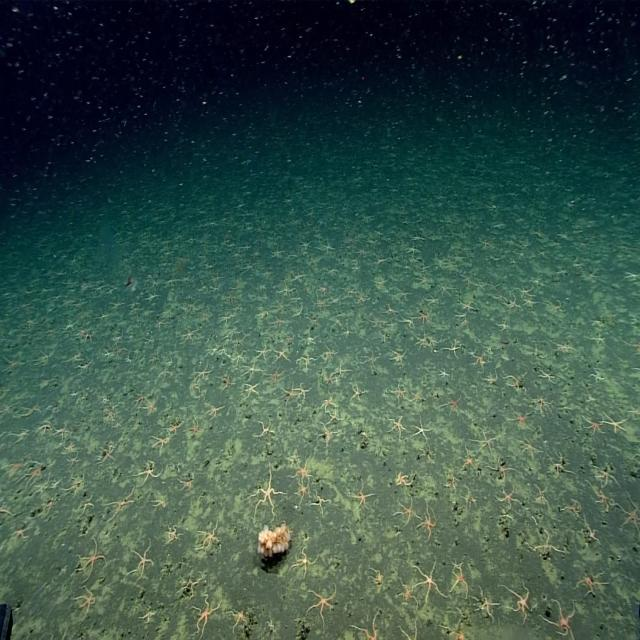brittle-stars: (252, 464, 280, 517), (544, 598, 576, 638), (191, 596, 220, 638), (307, 587, 337, 624), (414, 562, 441, 601), (78, 543, 106, 579), (507, 583, 532, 622), (108, 486, 135, 519), (131, 542, 154, 580), (199, 520, 222, 556), (578, 568, 607, 596), (532, 531, 562, 558), (587, 481, 613, 512), (620, 495, 640, 535), (292, 545, 316, 577), (476, 588, 498, 621), (474, 431, 500, 458), (353, 616, 382, 640), (418, 506, 438, 540), (351, 481, 373, 511), (135, 459, 161, 484), (604, 410, 630, 435), (77, 588, 99, 616), (397, 499, 419, 526), (233, 600, 254, 628), (448, 567, 468, 596), (230, 606, 250, 634), (400, 580, 419, 608), (495, 485, 518, 508), (548, 452, 568, 478), (490, 458, 513, 480), (443, 391, 464, 415), (296, 454, 314, 482), (458, 448, 478, 473), (505, 373, 527, 395), (520, 437, 539, 462), (412, 419, 432, 442), (510, 408, 531, 429), (584, 413, 604, 435), (388, 415, 406, 439), (317, 423, 337, 444), (166, 522, 183, 546), (532, 394, 552, 414), (152, 434, 172, 454), (98, 444, 116, 466), (294, 481, 311, 504), (394, 470, 413, 490), (259, 418, 277, 439), (537, 367, 556, 386), (360, 348, 378, 368), (349, 381, 366, 402), (442, 339, 459, 360), (243, 359, 261, 378), (195, 362, 214, 380), (191, 368, 210, 386), (389, 383, 406, 403), (469, 350, 486, 370), (0, 497, 14, 521), (298, 352, 316, 370), (296, 358, 314, 376), (243, 381, 260, 400), (188, 419, 204, 439), (282, 384, 298, 404), (181, 474, 197, 494), (394, 386, 410, 406), (153, 493, 170, 511), (389, 347, 405, 366), (321, 343, 337, 362), (168, 417, 184, 436), (207, 404, 224, 421), (268, 366, 284, 384), (274, 346, 290, 364), (294, 383, 310, 401), (517, 282, 535, 298), (219, 374, 234, 393), (410, 388, 425, 407), (483, 372, 499, 389), (416, 309, 432, 326), (459, 298, 475, 315), (374, 274, 390, 291), (320, 393, 336, 410), (591, 332, 608, 348), (182, 326, 197, 344), (143, 396, 158, 414), (326, 409, 341, 427), (255, 344, 270, 361), (397, 286, 411, 302), (504, 294, 518, 310), (234, 348, 248, 364), (403, 314, 416, 330), (291, 270, 305, 284), (68, 453, 81, 468), (156, 316, 169, 330), (66, 440, 77, 456), (439, 366, 451, 380), (318, 282, 330, 295)
